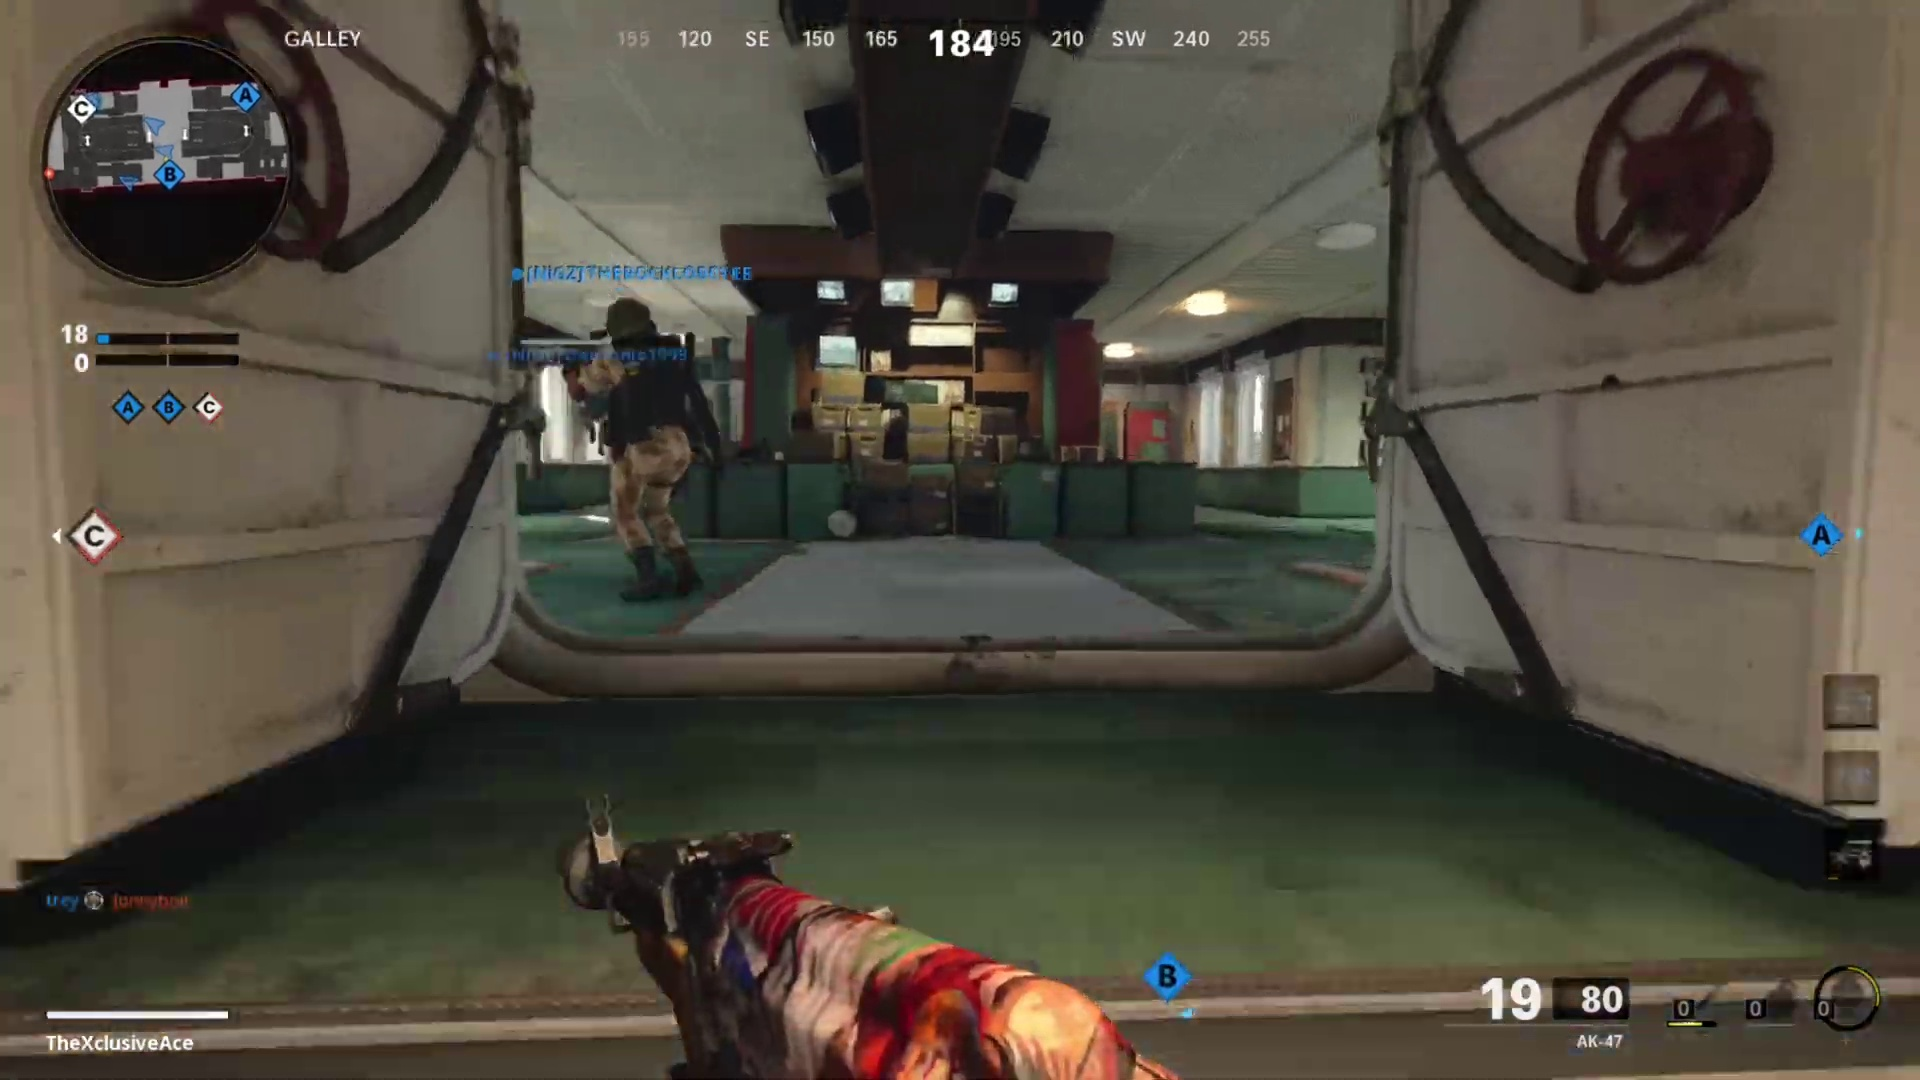head: (596, 290, 663, 362)
person: (568, 293, 710, 603)
